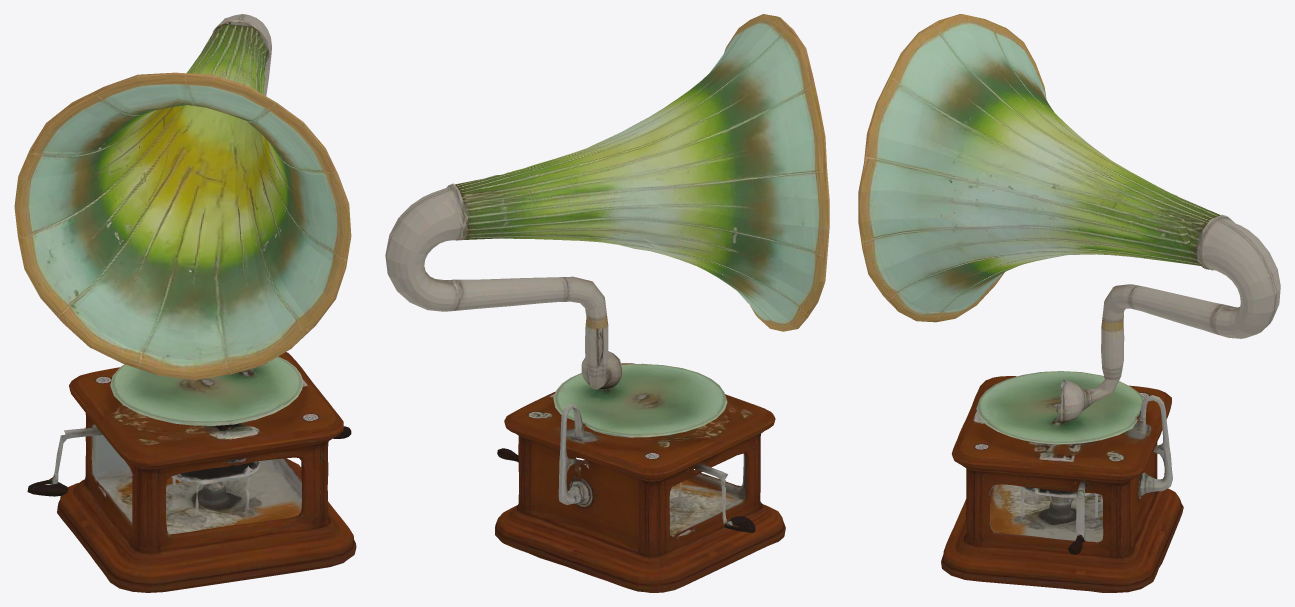
Rendered from gramofono.glb.
3 views of the same model, side by side, from view 1: azimuth 30°, elevation 25°; view 2: azimuth 150°, elevation 25°; view 3: azimuth 270°, elevation 25° (orthographic). The views are drawn at different scales.
Visible parts, largest first — view 1: tripo_node_3b9f29cd-e355-47d4-86cb-74211c2dc730; view 2: tripo_node_3b9f29cd-e355-47d4-86cb-74211c2dc730; view 3: tripo_node_3b9f29cd-e355-47d4-86cb-74211c2dc730.
Boxes of the visible parts, x1,y1,x2,y2 form: tripo_node_3b9f29cd-e355-47d4-86cb-74211c2dc730: (14,14,356,592); tripo_node_3b9f29cd-e355-47d4-86cb-74211c2dc730: (385,14,829,592); tripo_node_3b9f29cd-e355-47d4-86cb-74211c2dc730: (858,14,1280,592).
Size of the model in its own units: 0.7085 by 0.9763 by 0.7852.
1 material, 1 textured.
